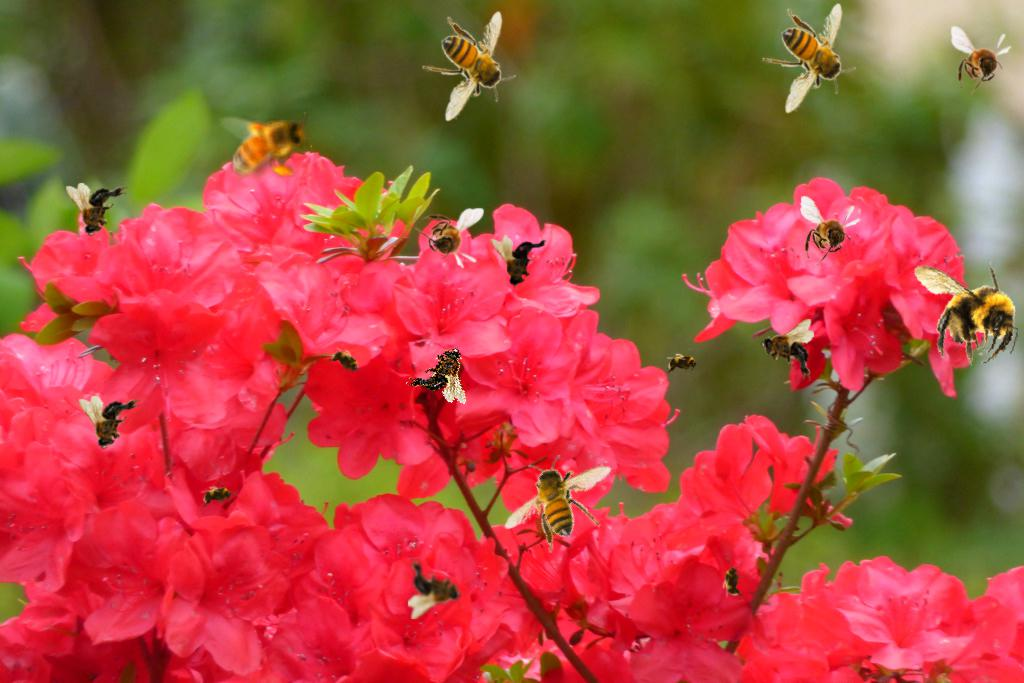Bee: (491, 427, 632, 573), (897, 245, 1024, 374), (762, 3, 856, 114), (422, 11, 516, 122), (219, 112, 312, 180), (404, 337, 481, 407), (797, 195, 862, 269), (414, 208, 484, 269), (951, 26, 1012, 96), (79, 396, 141, 449), (490, 235, 552, 288), (761, 319, 814, 381), (408, 557, 461, 619), (66, 183, 128, 236), (323, 341, 369, 383), (196, 482, 240, 510), (722, 561, 744, 601), (663, 353, 703, 375)
